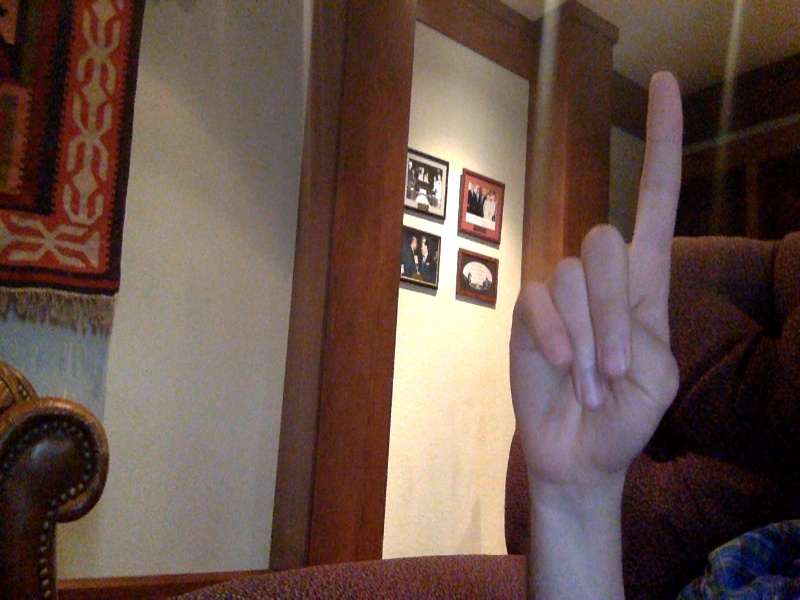1-hand: (512, 70, 684, 473)
